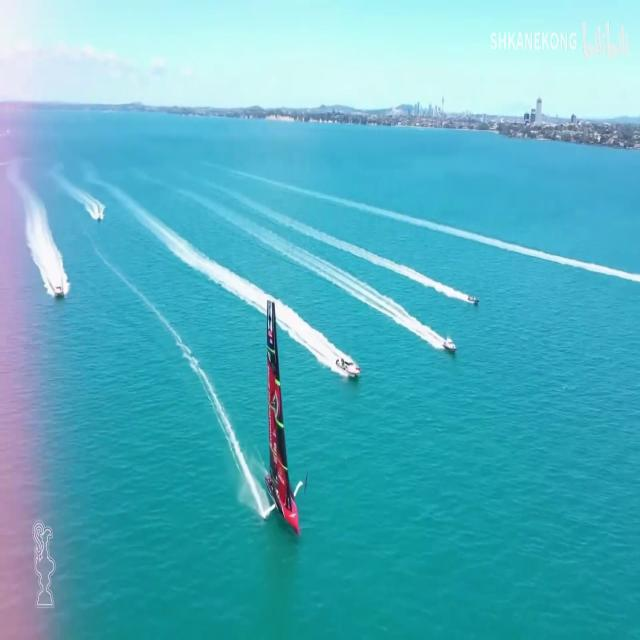houseboat: (338, 350, 362, 384), (52, 269, 64, 300), (441, 335, 460, 351), (468, 296, 481, 308), (96, 208, 102, 222)
sailboat: (258, 296, 308, 534)
